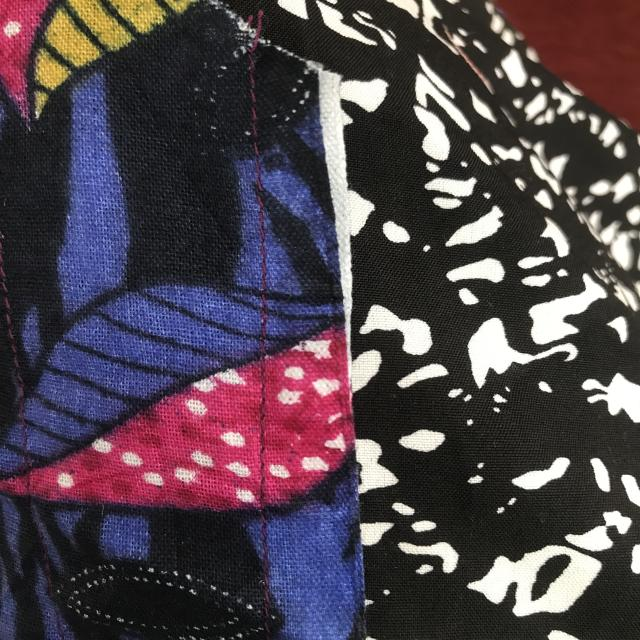good: (240, 78, 282, 246), (249, 370, 274, 487)
